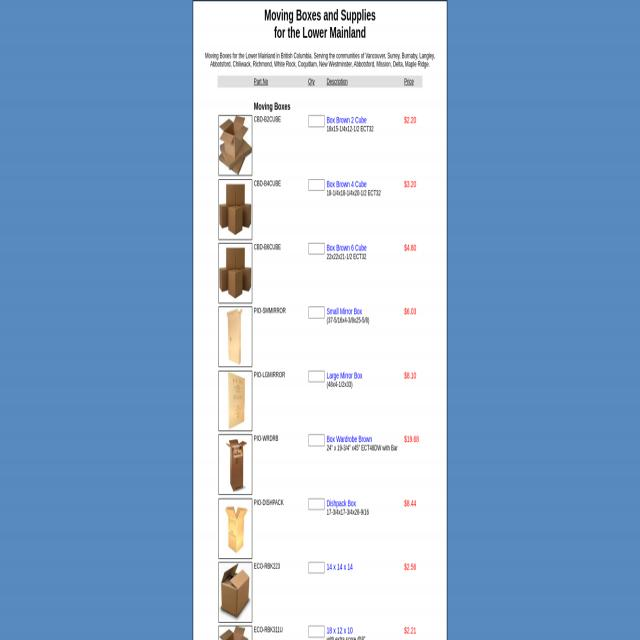button: (218, 115, 252, 176), (218, 179, 252, 240), (218, 370, 252, 431), (218, 434, 252, 495), (218, 498, 252, 559), (218, 243, 252, 303), (218, 307, 252, 367), (219, 563, 252, 622), (218, 625, 251, 640)
field: (308, 115, 326, 127), (308, 179, 326, 191), (308, 243, 326, 255), (308, 307, 326, 319), (308, 434, 326, 446), (308, 498, 326, 510), (308, 562, 326, 574), (308, 371, 326, 382), (308, 628, 326, 636)
